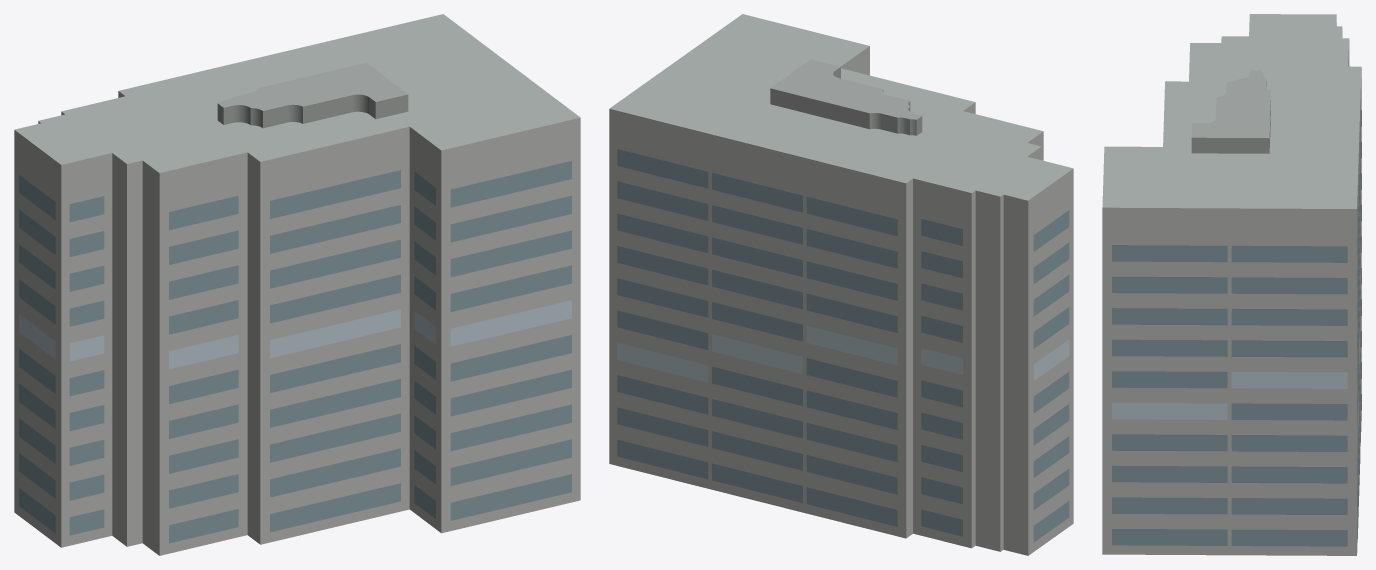
File: named-apt-0c3b84be-a079-4b1b-9626-0bda83164255.glb
3 views of the same model, side by side, from view 1: azimuth 30°, elevation 25°; view 2: azimuth 150°, elevation 25°; view 3: azimuth 270°, elevation 25° (orthographic). The views are drawn at different scales.
Visible parts, largest first — view 1: named-apt-0c3b84be-a079-4b1b-9626-0bda83164255; view 2: named-apt-0c3b84be-a079-4b1b-9626-0bda83164255; view 3: named-apt-0c3b84be-a079-4b1b-9626-0bda83164255.
Part boxes in pixels (x1,y1,x2,y2): named-apt-0c3b84be-a079-4b1b-9626-0bda83164255: (14,14,580,555); named-apt-0c3b84be-a079-4b1b-9626-0bda83164255: (609,14,1073,555); named-apt-0c3b84be-a079-4b1b-9626-0bda83164255: (1102,14,1361,555).
Size of the model in its own units: 40.55 by 35.06 by 22.78.
